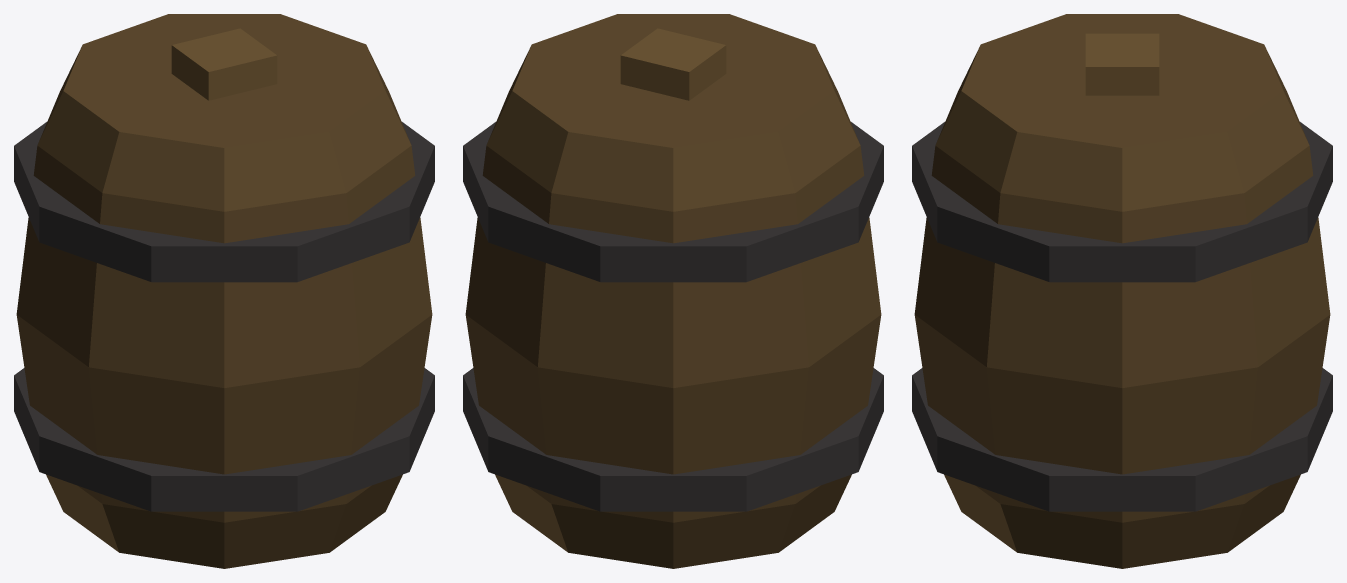
The model's file is water_barrel.glb.
3 renders of one model, left to right at view 1: azimuth 30°, elevation 25°; view 2: azimuth 150°, elevation 25°; view 3: azimuth 270°, elevation 25°, orthographic.
Visible parts, largest first — view 1: water_barrel; view 2: water_barrel; view 3: water_barrel.
Boxes of the visible parts, x1,y1,x2,y2 form: water_barrel: (14,14,434,568); water_barrel: (463,14,883,568); water_barrel: (912,14,1332,568).
Size of the model in its own units: 0.805 by 0.94 by 0.7977.
